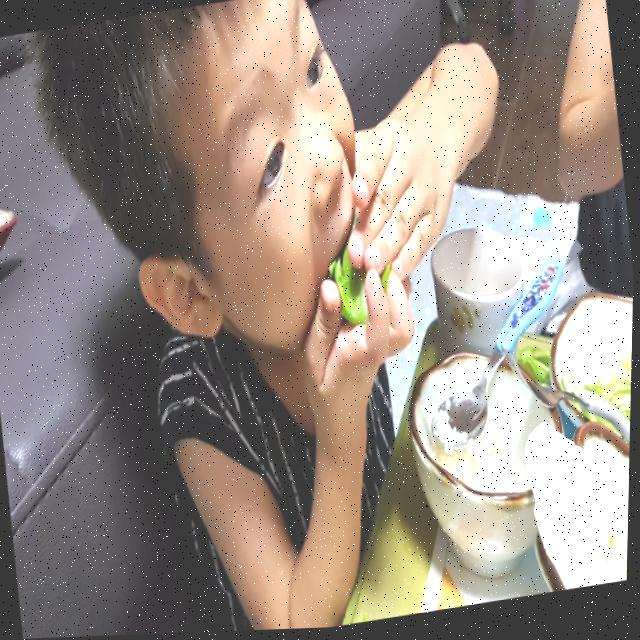eating-person: (13, 0, 590, 639)
